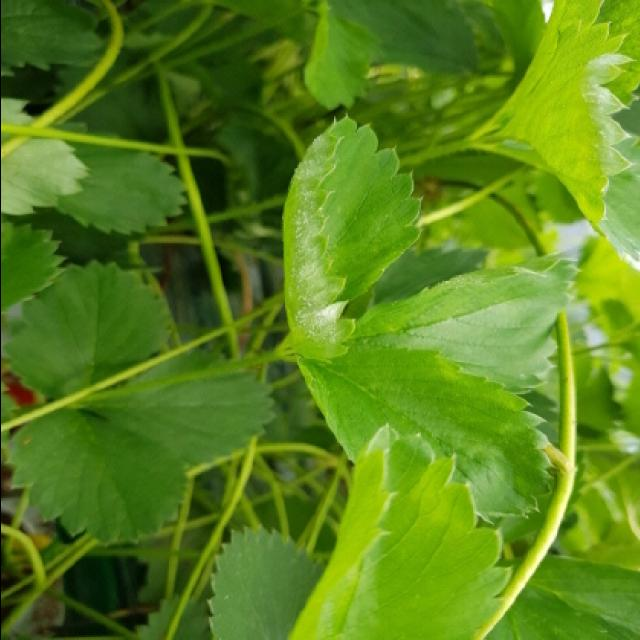Powdery Mildew Leaf: (280, 112, 422, 364), (350, 257, 580, 390)
